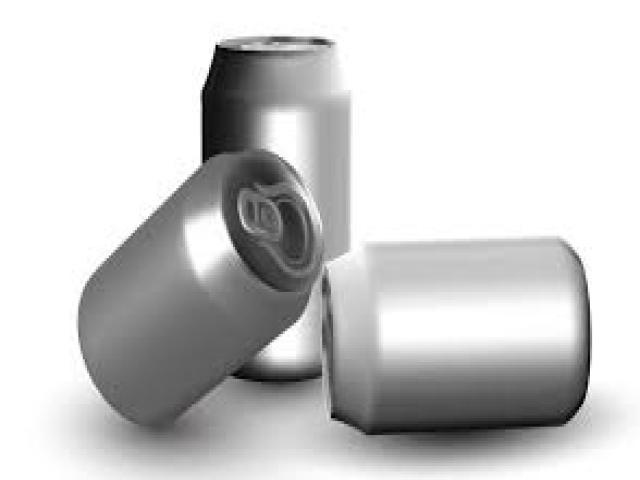Canned_drinks: (76, 149, 324, 432), (200, 34, 355, 382), (324, 239, 590, 435)
